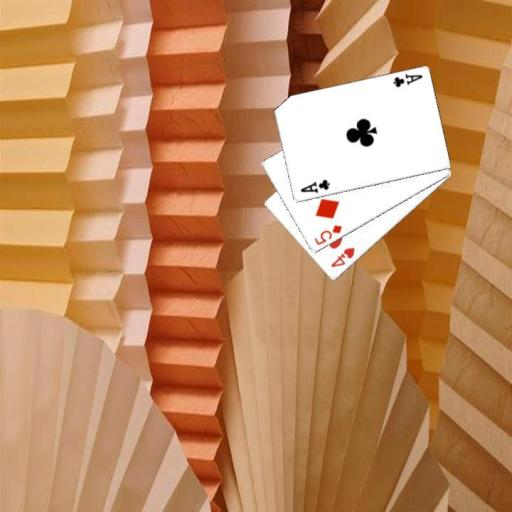4H: (327, 245, 356, 270)
5D: (311, 222, 343, 247)
AC: (297, 176, 331, 195), (390, 71, 424, 89)
